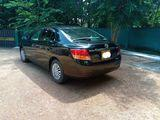car: (19, 26, 122, 83)
